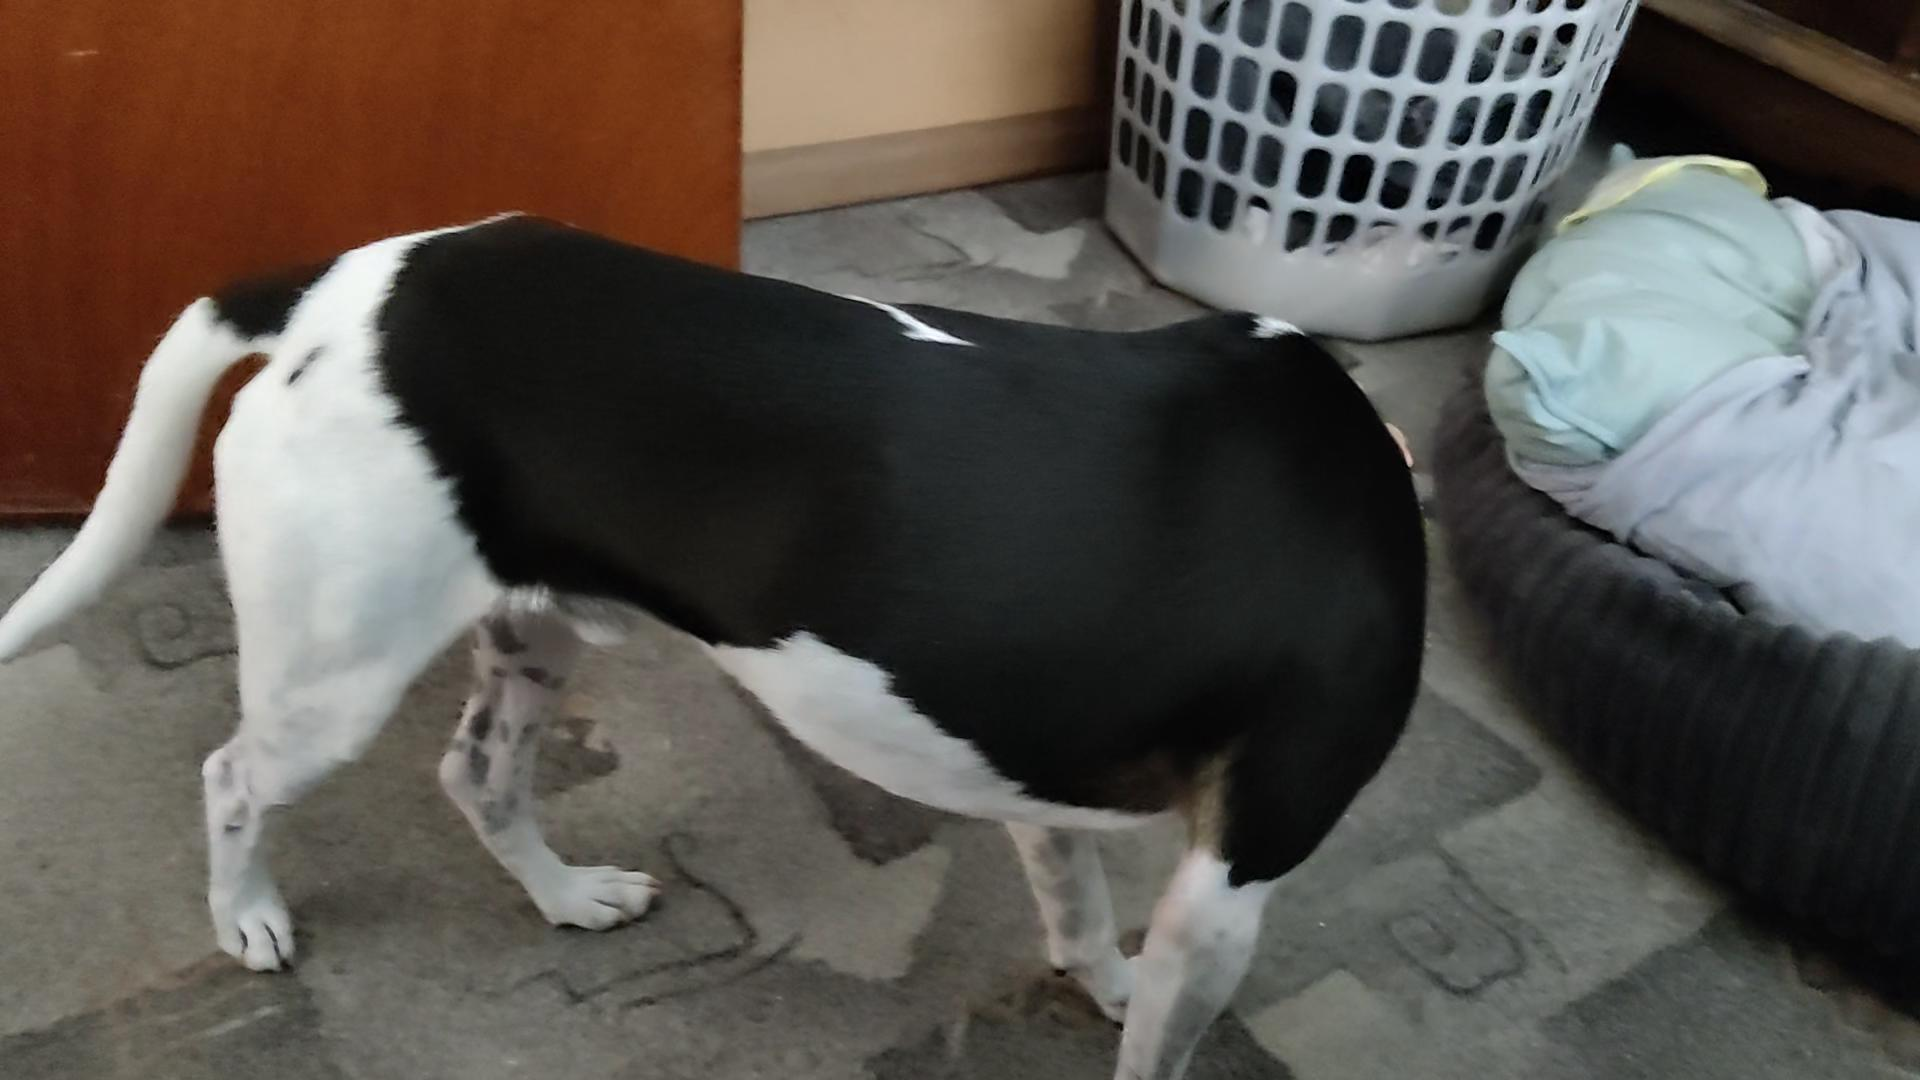Dog: (0, 179, 1447, 1079)
